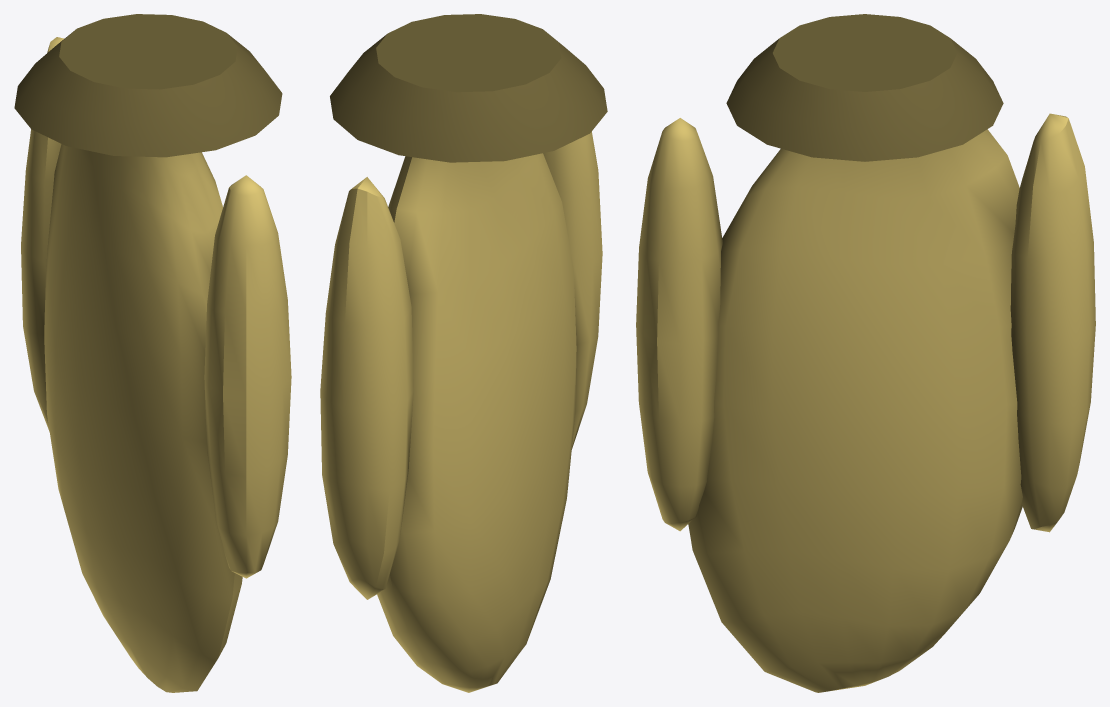
File: oilskin.glb
3 renders of one model, left to right at view 1: azimuth 30°, elevation 25°; view 2: azimuth 150°, elevation 25°; view 3: azimuth 270°, elevation 25°, orthographic. The views are drawn at different scales.
Parts seen in each view (by area): view 1: boat_oilskin; view 2: boat_oilskin; view 3: boat_oilskin.
Boxes of the visible parts, box(x1,y1,x2,y2) form: boat_oilskin: box(14, 14, 291, 692); boat_oilskin: box(320, 14, 607, 692); boat_oilskin: box(636, 14, 1095, 692).
Bounding box in the file's own units: 0.3 × 0.7632 × 0.4977.
